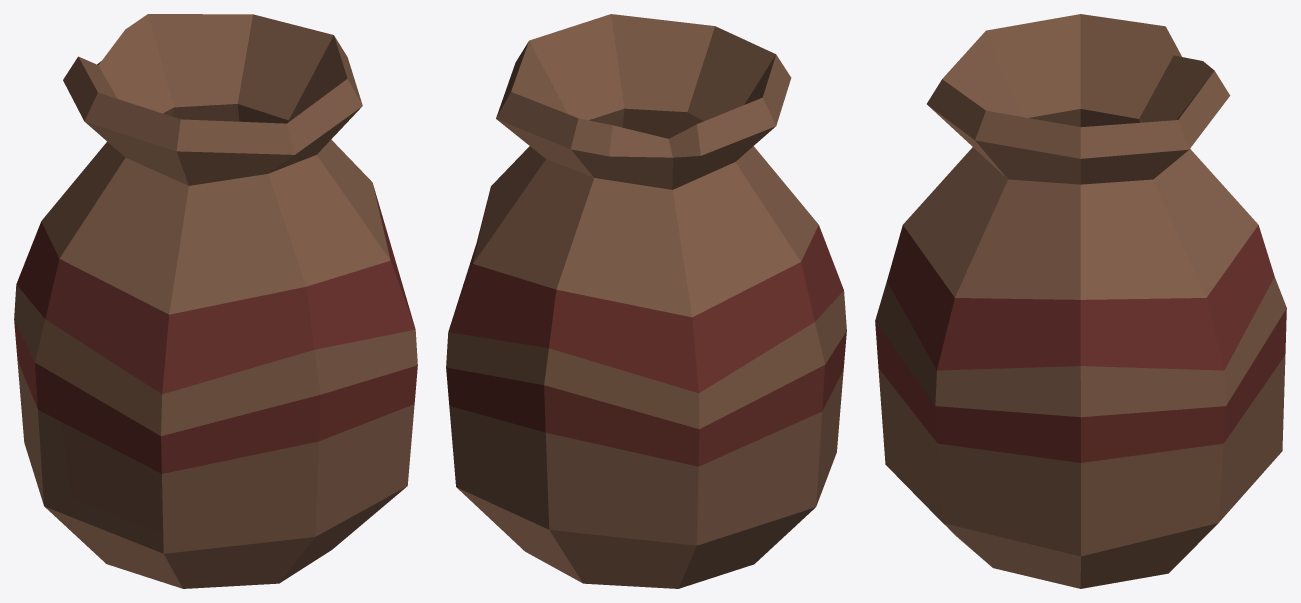
The model's file is SM_Prop_Vase_04.glb.
The picture shows the model from 3 angles, left to right: view 1: azimuth 30°, elevation 25°; view 2: azimuth 150°, elevation 25°; view 3: azimuth 270°, elevation 25°; orthographic projection.
Parts seen in each view (by area): view 1: SM_Prop_Vase_04; view 2: SM_Prop_Vase_04; view 3: SM_Prop_Vase_04.
Part boxes in pixels (x1,y1,x2,y2): SM_Prop_Vase_04: [14, 14, 417, 588]; SM_Prop_Vase_04: [446, 14, 846, 588]; SM_Prop_Vase_04: [875, 14, 1286, 588].
Size of the model in its own units: 0.00545 by 0.0068 by 0.00545.
Materials: 1 (1 with a texture image).
